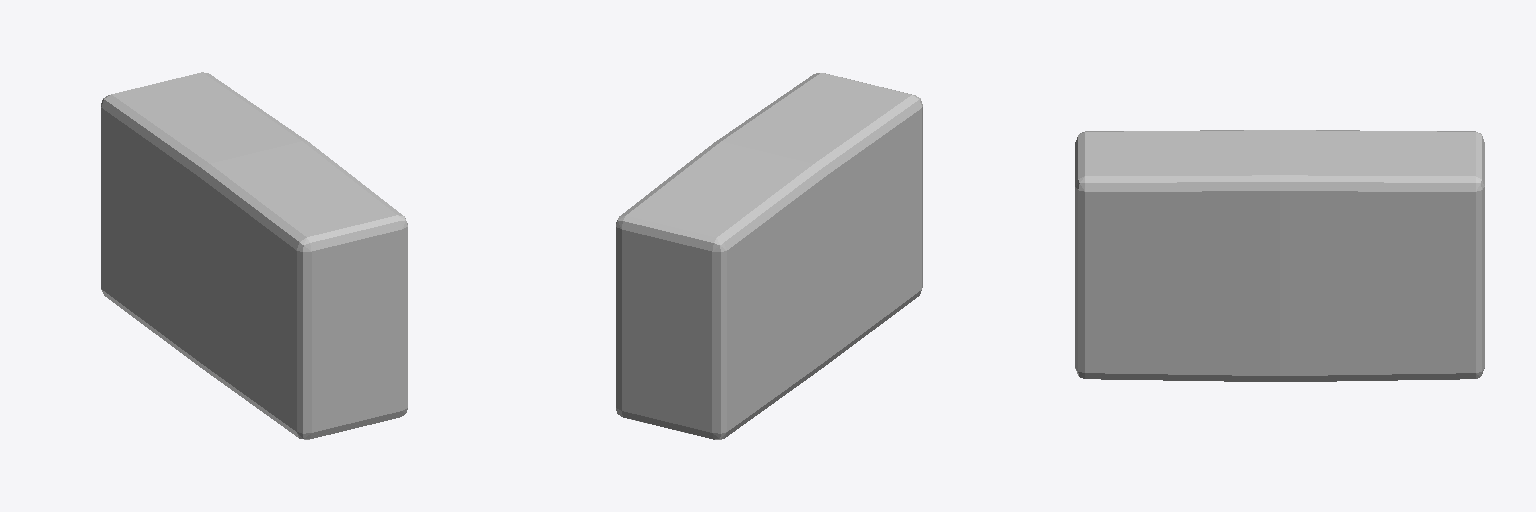
The model's file is MDL_Brick_01.obj.
3 views of the same model, side by side, from view 1: azimuth 30°, elevation 25°; view 2: azimuth 150°, elevation 25°; view 3: azimuth 270°, elevation 25° (orthographic).
Visible parts, largest first — view 1: MDL_Brick_01; view 2: MDL_Brick_01; view 3: MDL_Brick_01.
Part boxes in pixels (x1,y1,x2,y2): MDL_Brick_01: (101, 72, 407, 439); MDL_Brick_01: (616, 73, 922, 439); MDL_Brick_01: (1075, 130, 1484, 381).
Bounding box in the file's own units: 0.5257 × 0.9116 × 1.64.